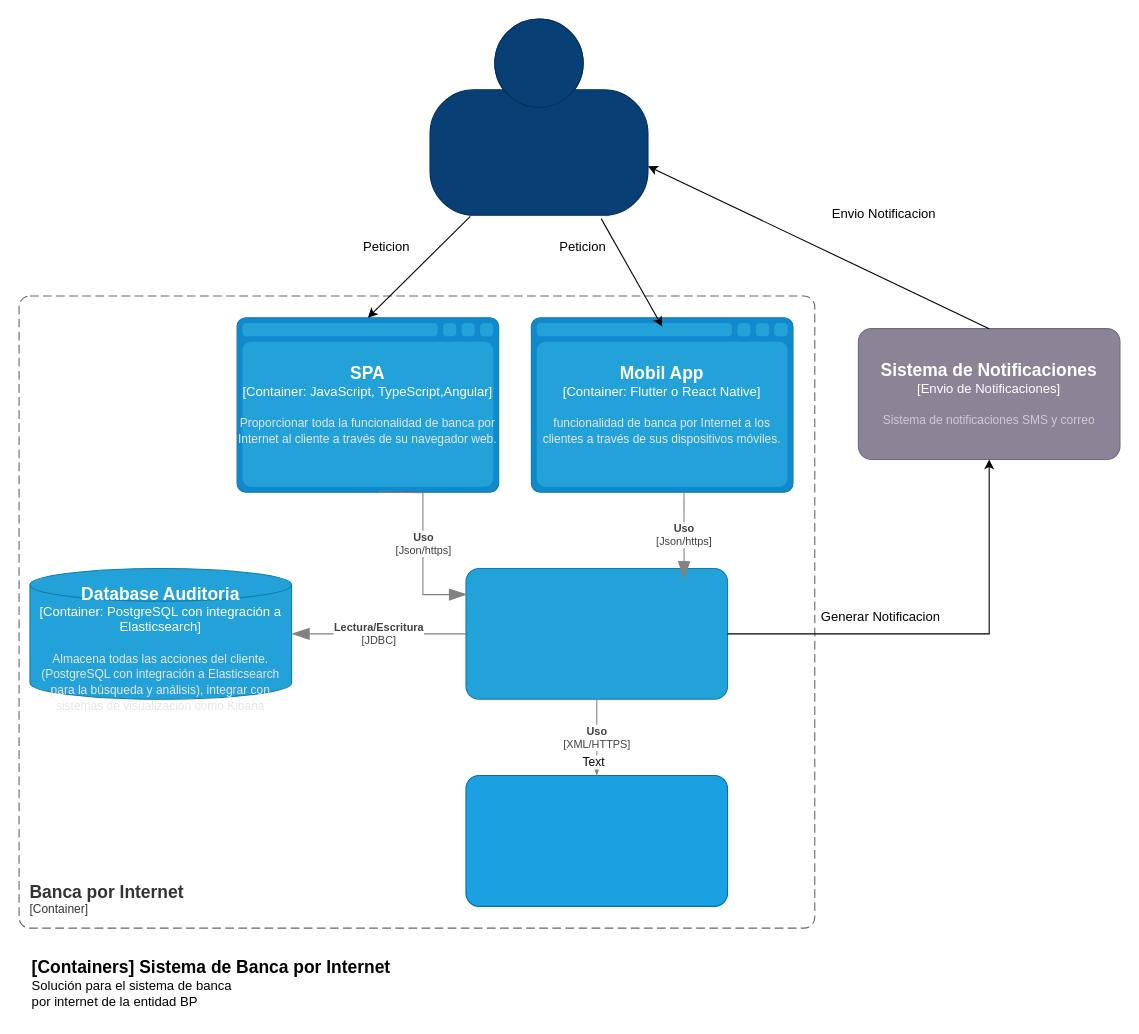
The diagram is 1139 pixels wide and 1034 high, and some of its shapes have lost their labels. The centre of each missing label's shape, as x and y in pixels:
API GATEWAY [Container: Java] Proporciona funcionalidad de banca por Internet: (596,633)
Core Bancario [Software] Almacena Información de clientes,cuentas, transacciones: (596,840)
Usuario [Cliente] Cliente con acceso a sistema: (538,116)
